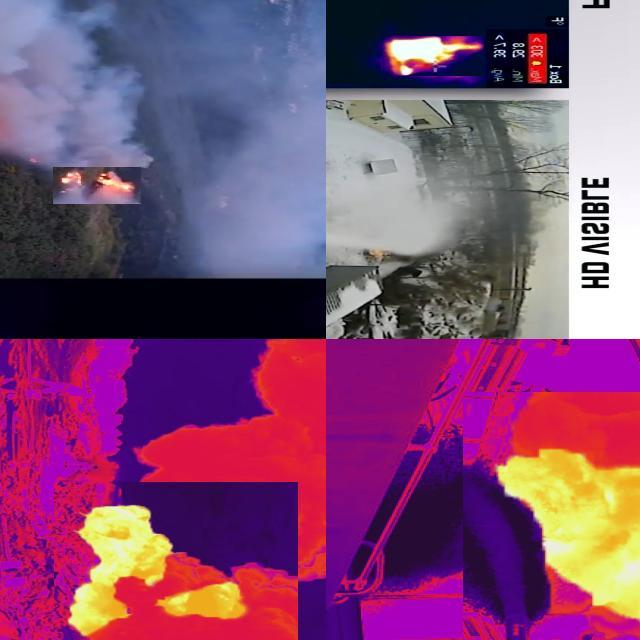fire: (491, 445, 640, 623), (70, 500, 252, 640), (384, 36, 486, 76)
